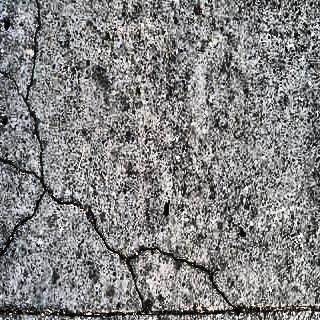crack: (1, 1, 49, 264), (126, 243, 242, 320), (46, 187, 127, 270)
